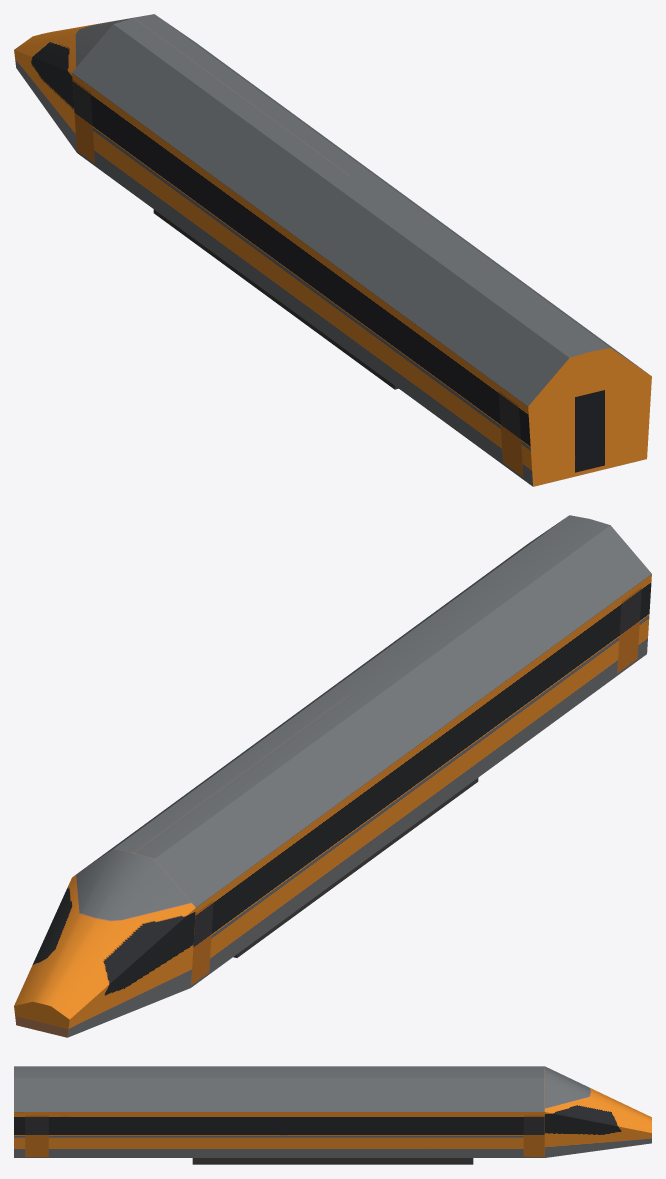
Rendered from vb_cab_lod2.glb.
3 renders of one model, top to bottom at view 1: azimuth 30°, elevation 25°; view 2: azimuth 150°, elevation 25°; view 3: azimuth 270°, elevation 25°, orthographic. The views are drawn at different scales.
Parts seen in each view (by area): view 1: body; view 2: body; view 3: body.
Part boxes in pixels (box(x1,y1,x2,y2)): body: box(14, 14, 651, 486); body: box(14, 515, 651, 1037); body: box(14, 1066, 651, 1164).
Bounding box in the file's own units: 3.26 × 3.53 × 25.
Materials: 2 (2 with a texture image).
